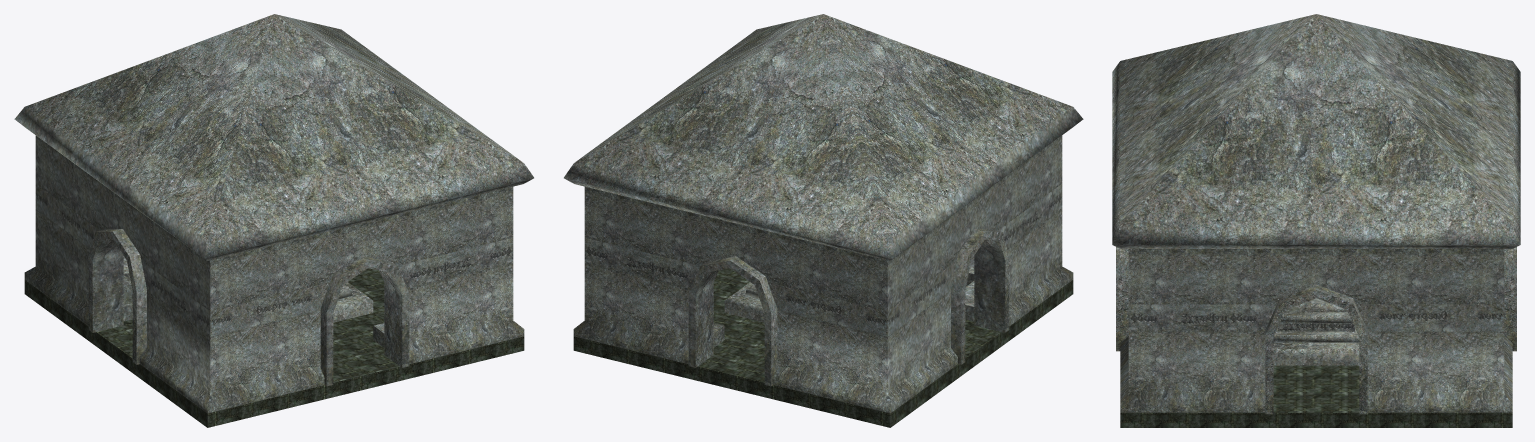
File: SarcophagusAll_A.fbx
The picture shows the model from 3 angles, left to right: view 1: azimuth 30°, elevation 25°; view 2: azimuth 150°, elevation 25°; view 3: azimuth 270°, elevation 25°; orthographic projection. The views are drawn at different scales.
Visible parts, largest first — view 1: Roof_Outside, Building, Building_Floor, DoorWays, Middle_Trim, Bottom, Bottom_holder; view 2: Roof_Outside, Building, Building_Floor, DoorWays, Middle_Trim, Bottom, Bottom_holder; view 3: Roof_Outside, Building, Building_Floor, Middle_Trim, DoorWays, Bottom, Slab5, Slab3, Words, Top_Base.
Boxes of the visible parts, box(x1,y1,x2,y2) form: Roof_Outside: box(14, 14, 533, 260); Building: box(24, 135, 524, 413); Building_Floor: box(24, 268, 524, 427); DoorWays: box(88, 229, 409, 386); Middle_Trim: box(35, 184, 513, 336); Bottom: box(333, 282, 373, 322); Bottom_holder: box(123, 256, 384, 347); Roof_Outside: box(564, 14, 1083, 260); Building: box(573, 135, 1073, 413); Building_Floor: box(573, 268, 1073, 427); DoorWays: box(688, 229, 1009, 386); Middle_Trim: box(584, 184, 1062, 336); Bottom: box(724, 282, 764, 322); Bottom_holder: box(713, 256, 974, 347); Roof_Outside: box(1112, 14, 1520, 248); Building: box(1120, 249, 1512, 412); Building_Floor: box(1120, 365, 1512, 427); Middle_Trim: box(1128, 304, 1504, 331); DoorWays: box(1116, 247, 1516, 414); Bottom: box(1273, 342, 1359, 365); Slab5: box(1273, 328, 1359, 342); Slab3: box(1280, 312, 1352, 323); Words: box(1278, 323, 1354, 331); Top_Base: box(1285, 298, 1347, 312).
Bounding box in the file's own units: 958 × 856 × 958.
